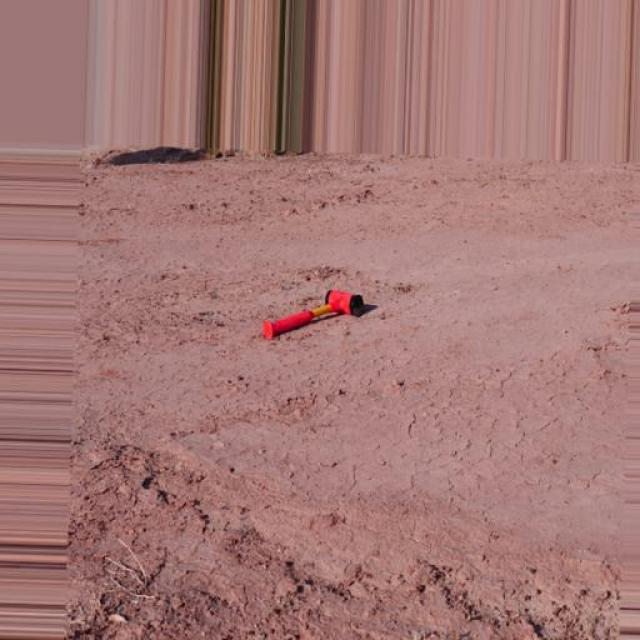mallet: (260, 288, 364, 338)
